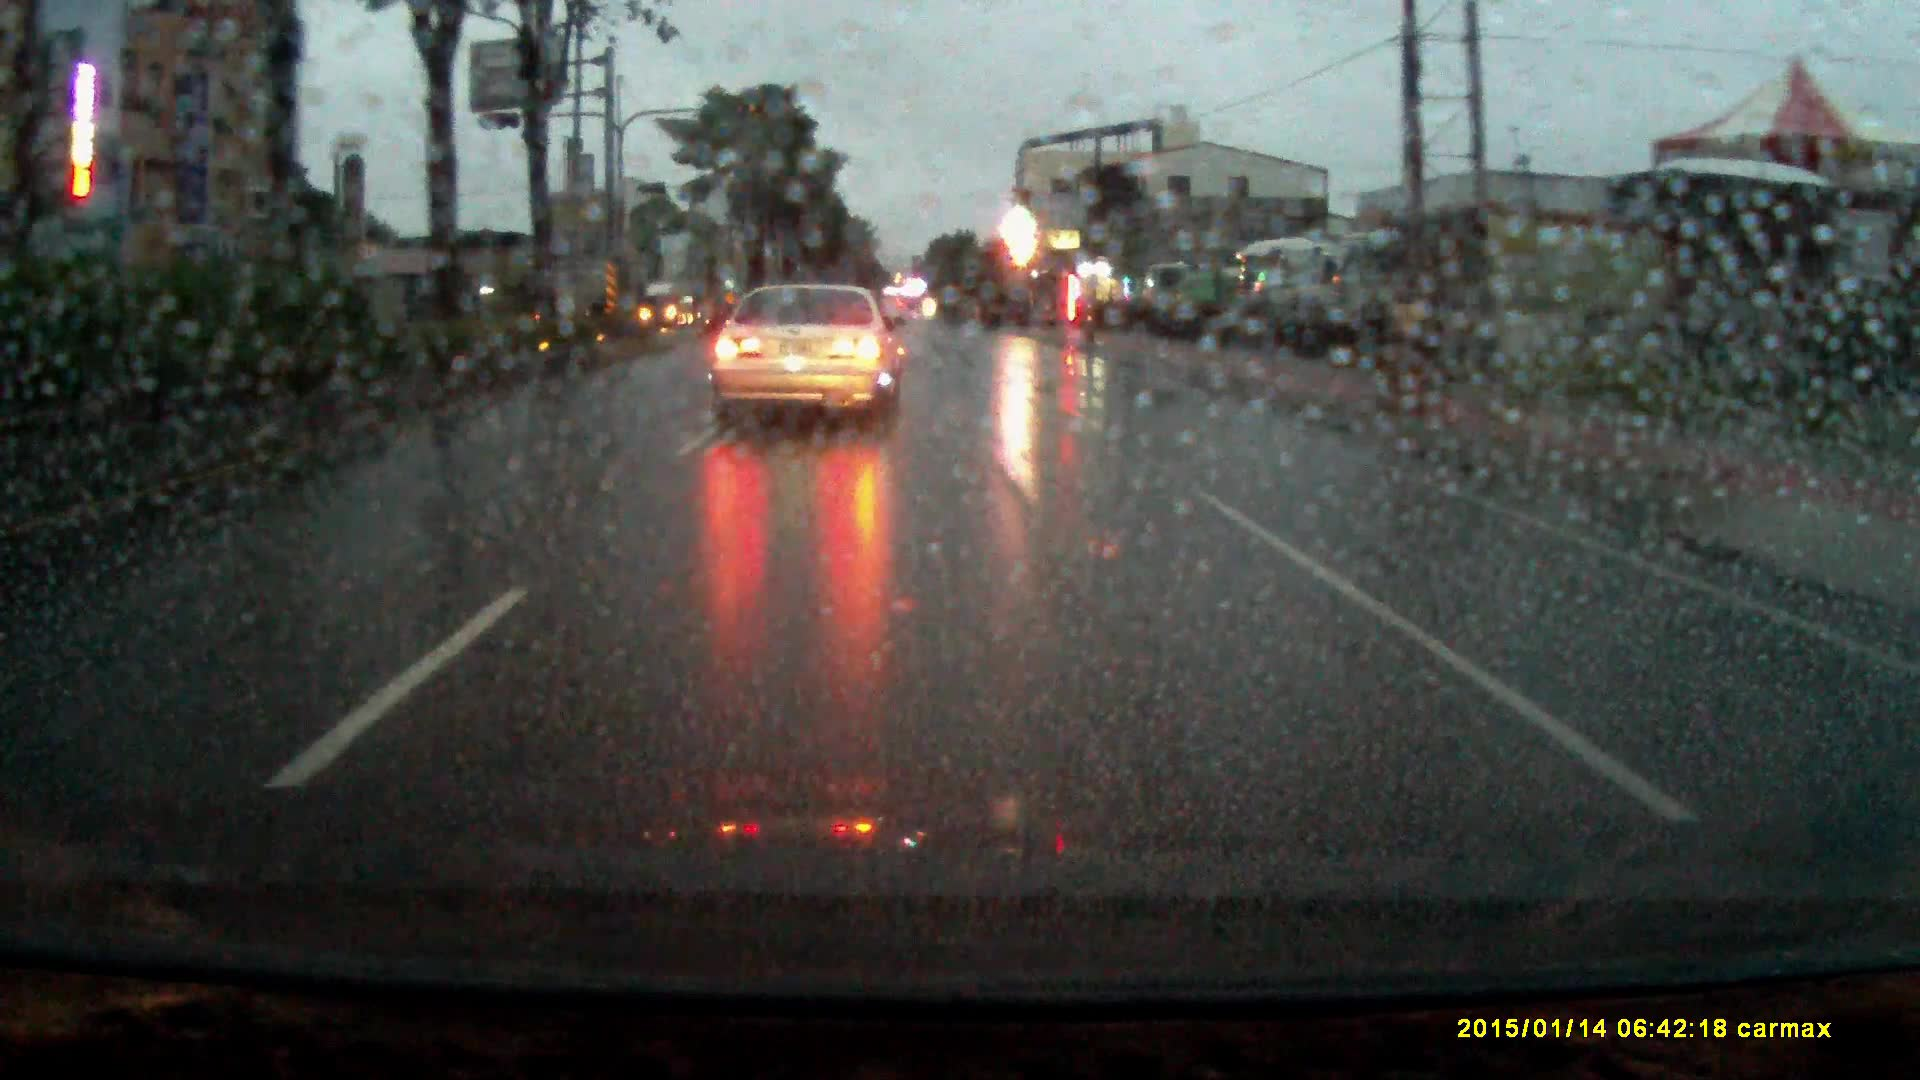vehicle: (709, 278, 910, 443), (1333, 232, 1436, 349), (1242, 243, 1335, 345), (1164, 266, 1236, 323), (1142, 265, 1197, 334), (645, 284, 694, 332)
